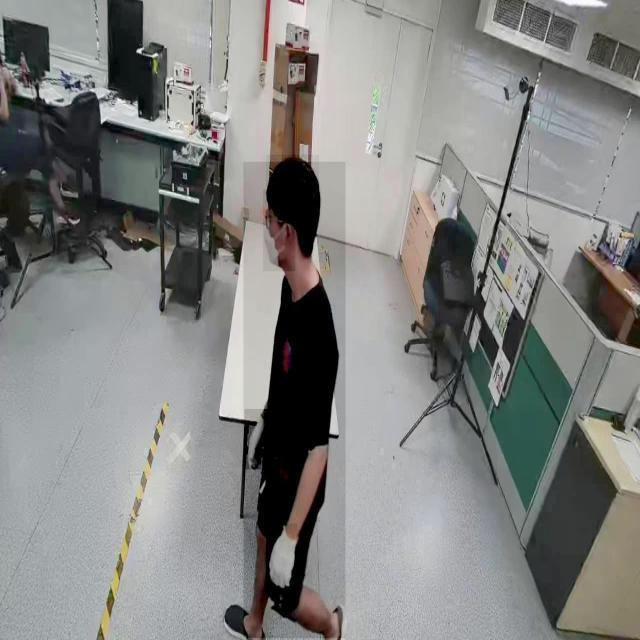gloves: (266, 523, 298, 593), (245, 408, 268, 471)
